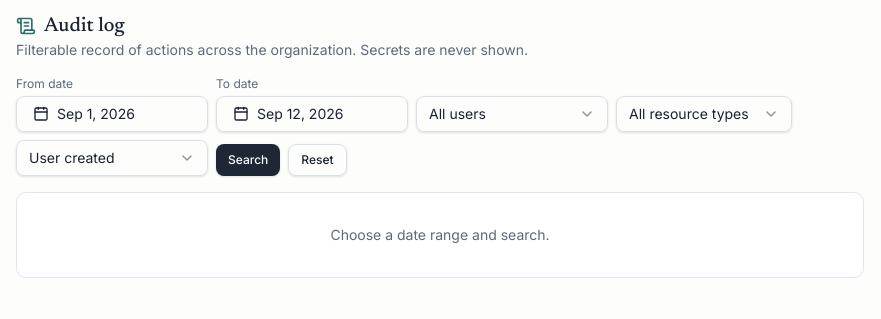
Test: AdminAudit › shows a filtered empty state after Search and Reset returns to idle
The width and height of the screenshot is (881, 319).
Click the button "Search": x=248, y=160 [216,144,280,176]
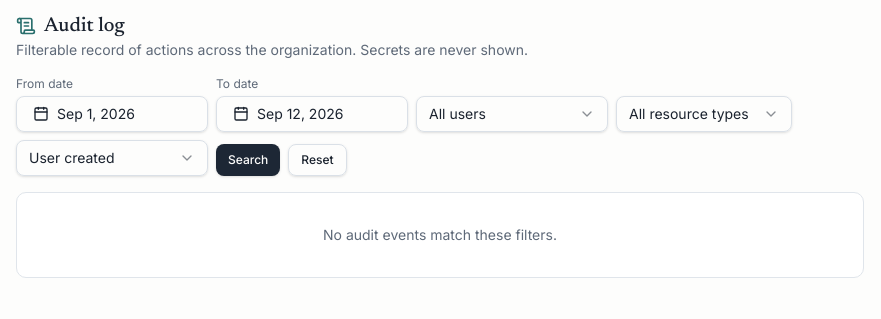
Now the text "No audit events match these filters." is shown, box [323,226,557,243]
Click the button "Reset": x=317, y=160 [288,144,347,176]
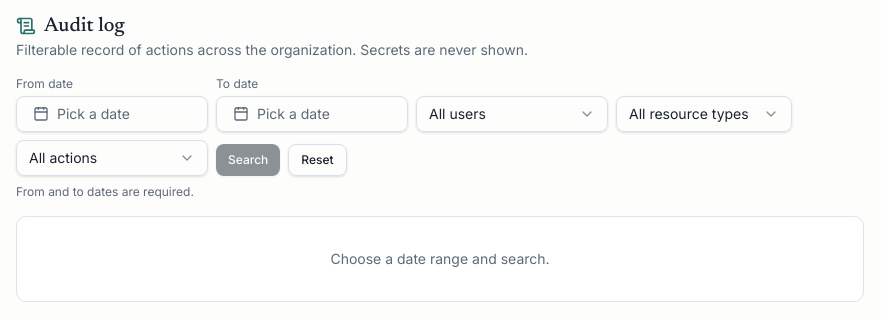
Now the text "Choose a date range and search." is shown, box [330,250,550,267]
Now the button "Search" is disabled, box [216,144,280,176]
